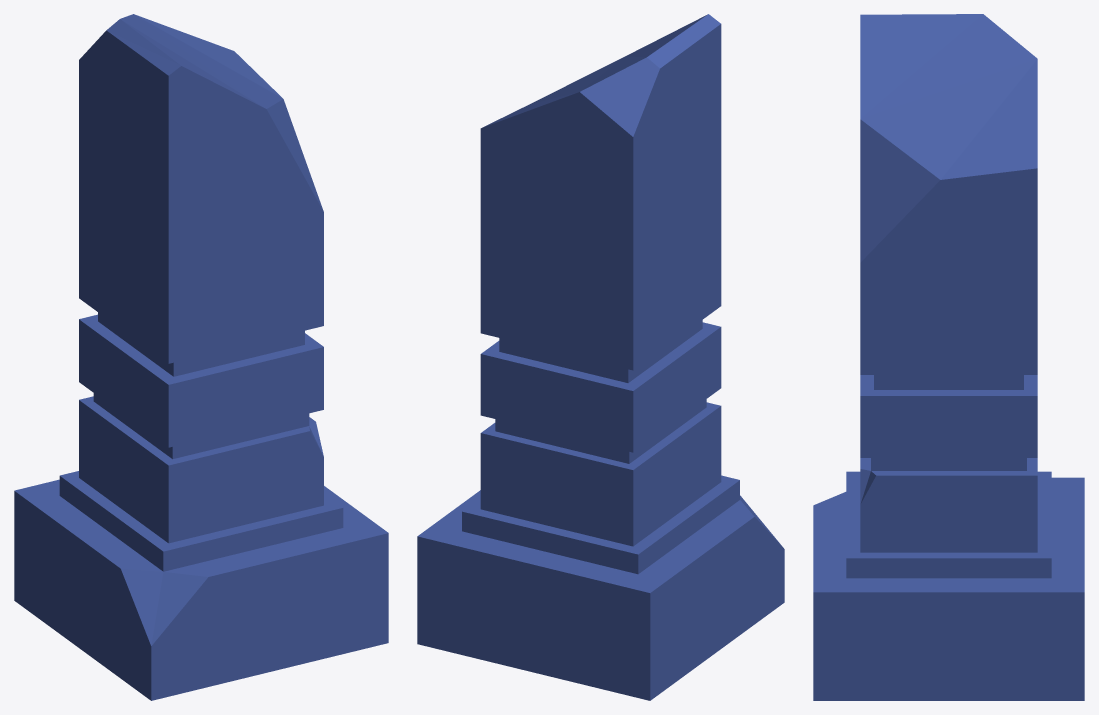
Rendered from broken_pilar_01.fbx.
3 views of the same model, side by side, from view 1: azimuth 30°, elevation 25°; view 2: azimuth 150°, elevation 25°; view 3: azimuth 270°, elevation 25° (orthographic). The views are drawn at different scales.
Visible parts, largest first — view 1: Pillar_03.001; view 2: Pillar_03.001; view 3: Pillar_03.001.
Part boxes in pixels (x1,y1,x2,y2): Pillar_03.001: (14, 14, 388, 700); Pillar_03.001: (417, 14, 784, 700); Pillar_03.001: (813, 14, 1084, 700).
Bounding box in the file's own units: 88.08 × 215 × 88.08.
